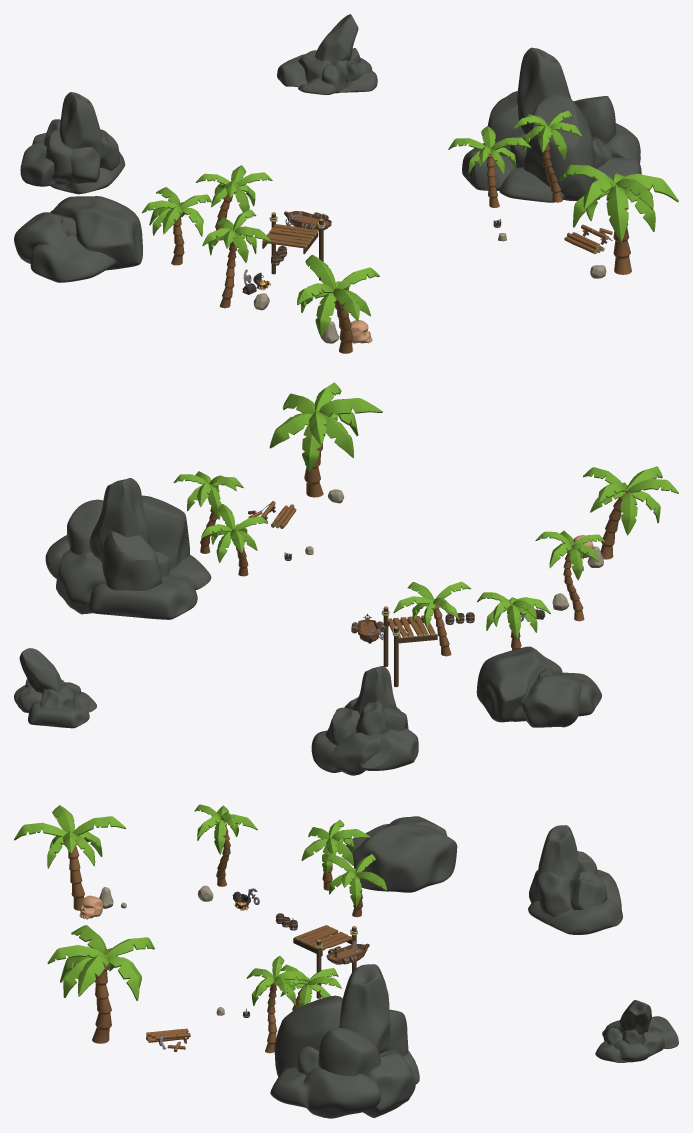
Rendered from sceneMenu.glb.
3 renders of one model, top to bottom at view 1: azimuth 30°, elevation 25°; view 2: azimuth 150°, elevation 25°; view 3: azimuth 270°, elevation 25°, orthographic. The views are drawn at different scales.
Parts seen in each view (by area): view 1: Environment_Cliff2, Environment_Cliff1, Environment_Cliff3, Environment_Cliff4, Environment_PalmTree_3.001, Environment_PalmTree_2.002, Environment_PalmTree_1, Environment_PalmTree_3, Environment_PalmTree_2.001, Environment_PalmTree_1.001, Environment_PalmTree_2, Environment_Dock (+2 smaller); view 2: Environment_Cliff2, Environment_Cliff1, Environment_Cliff3, Environment_PalmTree_3.001, Environment_Cliff4, Environment_PalmTree_2.002, Environment_PalmTree_1, Environment_PalmTree_2, Environment_PalmTree_2.001, Environment_PalmTree_3, Environment_Dock, Environment_PalmTree_1.001 (+1 smaller); view 3: Environment_Cliff2, Environment_Cliff3, Environment_Cliff1, Environment_PalmTree_3.001, Environment_Cliff4, Environment_PalmTree_2.002, Environment_PalmTree_1.001, Environment_PalmTree_3, Environment_PalmTree_1, Environment_PalmTree_2, Environment_Dock, Environment_PalmTree_2.001 (+2 smaller).
Part boxes in pixels (x1,y1,x2,y2): Environment_Cliff2: (462, 47, 641, 202); Environment_Cliff1: (14, 196, 142, 282); Environment_Cliff3: (20, 92, 125, 194); Environment_Cliff4: (277, 14, 377, 94); Environment_PalmTree_3.001: (559, 164, 678, 274); Environment_PalmTree_2.002: (297, 254, 379, 353); Environment_PalmTree_1: (202, 209, 271, 308); Environment_PalmTree_3: (141, 187, 211, 265); Environment_PalmTree_2.001: (448, 126, 531, 207); Environment_PalmTree_1.001: (513, 110, 582, 202); Environment_PalmTree_2: (195, 165, 272, 240); Environment_Dock: (262, 212, 325, 280); Environment_Cliff2: (45, 478, 211, 619); Environment_Cliff1: (476, 646, 601, 727); Environment_Cliff3: (311, 666, 418, 775); Environment_PalmTree_3.001: (269, 382, 382, 497); Environment_Cliff4: (14, 648, 96, 728); Environment_PalmTree_2.002: (583, 466, 678, 559); Environment_PalmTree_1: (535, 530, 605, 621); Environment_PalmTree_2: (393, 581, 471, 656); Environment_PalmTree_2.001: (201, 504, 267, 576); Environment_PalmTree_3: (477, 592, 550, 650); Environment_Dock: (381, 606, 437, 687); Environment_PalmTree_1.001: (173, 471, 243, 553); Environment_Cliff2: (270, 964, 419, 1118); Environment_Cliff3: (528, 825, 622, 934); Environment_Cliff1: (346, 816, 457, 892); Environment_PalmTree_3.001: (47, 925, 154, 1043); Environment_Cliff4: (595, 1000, 678, 1062); Environment_PalmTree_2.002: (14, 805, 125, 910); Environment_PalmTree_1.001: (246, 956, 310, 1053); Environment_PalmTree_3: (301, 819, 370, 890); Environment_PalmTree_1: (194, 804, 257, 886); Environment_PalmTree_2: (322, 853, 387, 917); Environment_Dock: (293, 925, 357, 998); Environment_PalmTree_2.001: (280, 964, 341, 1010).
Size of the model in its own units: 30.28 by 7.61 by 31.64.
Materials: 23 (23 with a texture image).
